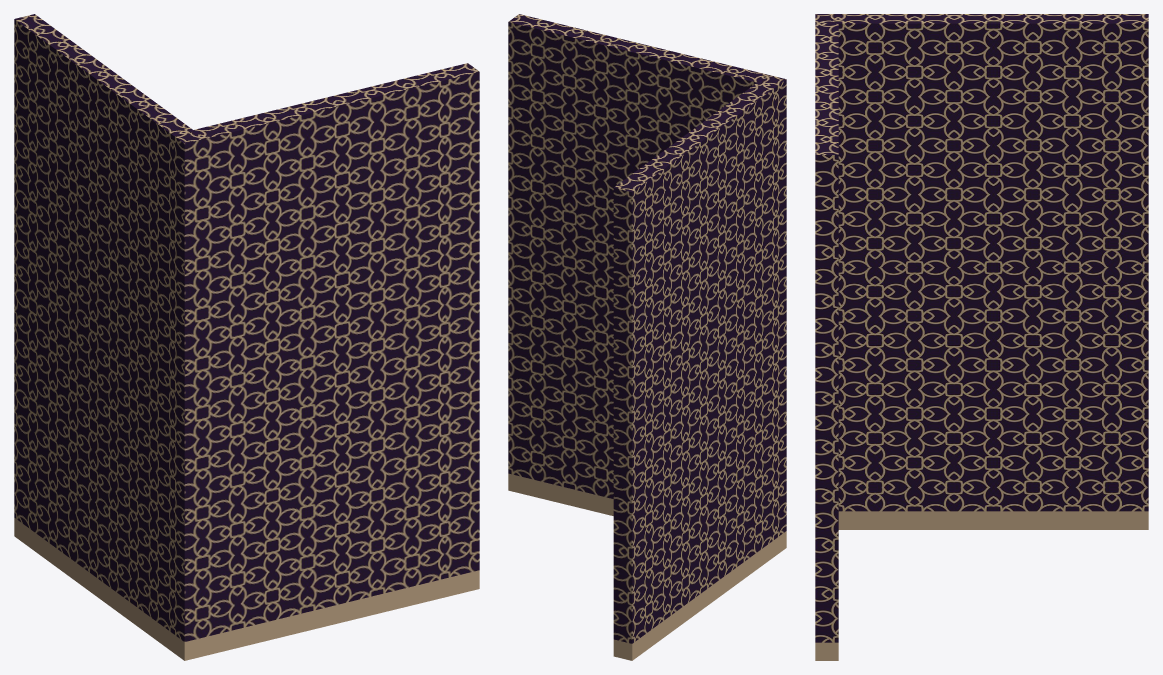
File: ARC0210023.fbx
The picture shows the model from 3 angles, left to right: view 1: azimuth 30°, elevation 25°; view 2: azimuth 150°, elevation 25°; view 3: azimuth 270°, elevation 25°; orthographic projection. The views are drawn at different scales.
Parts seen in each view (by area): view 1: smARC0210023; view 2: smARC0210023; view 3: smARC0210023.
Boxes of the visible parts, box(x1,y1,x2,y2) form: smARC0210023: box(14, 14, 479, 660); smARC0210023: box(508, 14, 786, 660); smARC0210023: box(815, 14, 1148, 660).
Bounding box in the file's own units: 196 × 328 × 196.
1 material, 1 textured.
